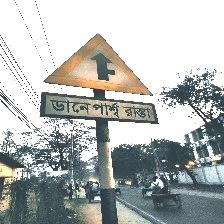Side-road-right: (41, 33, 156, 125)
